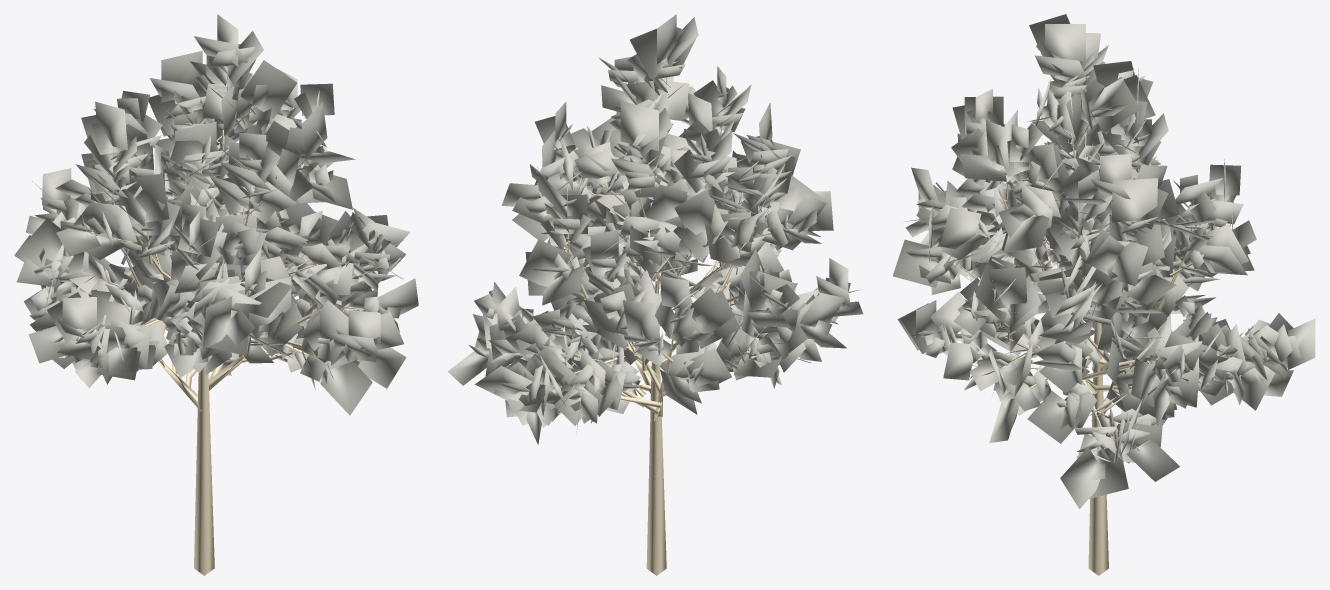
File: oak_medium_v0_lod2.glb
The picture shows the model from 3 angles, left to right: view 1: azimuth 30°, elevation 25°; view 2: azimuth 150°, elevation 25°; view 3: azimuth 270°, elevation 25°; orthographic projection. The views are drawn at different scales.
Visible parts, largest first — view 1: Leaves, Branches; view 2: Leaves, Branches; view 3: Leaves, Branches.
Boxes of the visible parts, bbox=[...] form: Leaves: bbox=[14, 14, 418, 415]; Branches: bbox=[59, 66, 368, 575]; Leaves: bbox=[447, 14, 863, 444]; Branches: bbox=[487, 60, 817, 575]; Leaves: bbox=[892, 14, 1315, 508]; Branches: bbox=[932, 76, 1275, 575].
Bounding box in the file's own units: 50.12 × 72.13 × 50.26.
